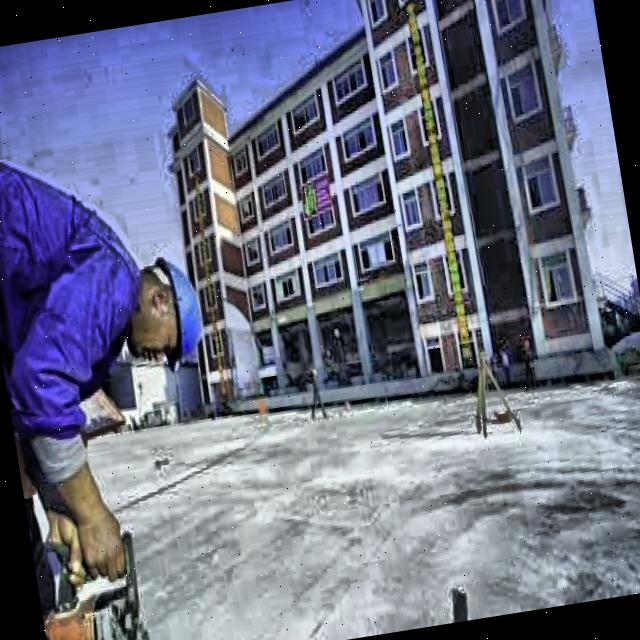helmet: (111, 248, 211, 368)
